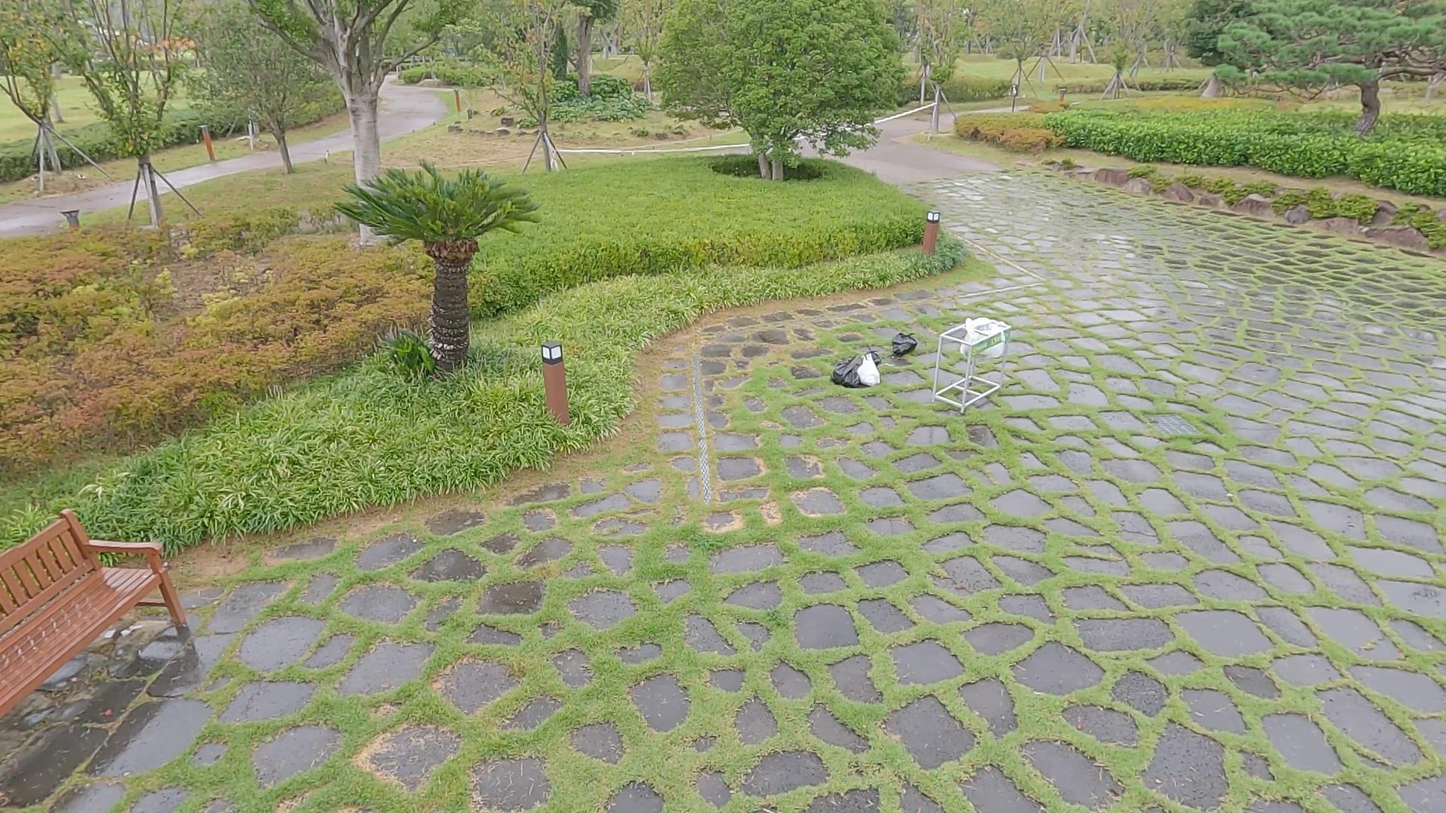trash: (832, 349, 861, 389), (857, 350, 882, 391), (890, 327, 918, 356), (859, 350, 886, 368)
